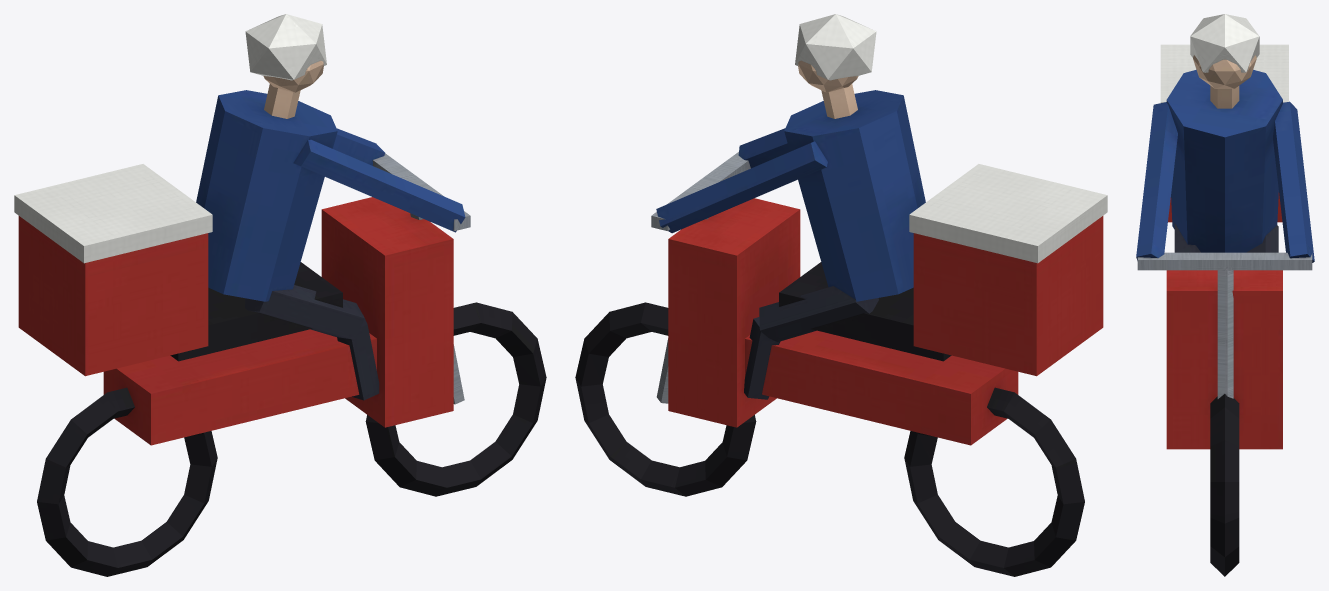
File: moped_tex.glb
3 renders of one model, left to right at view 1: azimuth 30°, elevation 25°; view 2: azimuth 150°, elevation 25°; view 3: azimuth 270°, elevation 25°, orthographic. The views are drawn at different scales.
Visible parts, largest first — view 1: moped; view 2: moped; view 3: moped.
Part boxes in pixels (left/top/right/bottom): moped: left=14, top=14, right=546, bottom=576; moped: left=575, top=14, right=1107, bottom=576; moped: left=1136, top=14, right=1314, bottom=576.
Bounding box in the file's own units: 1.86 × 1.81 × 0.6137.
Materials: 7 (7 with a texture image).
